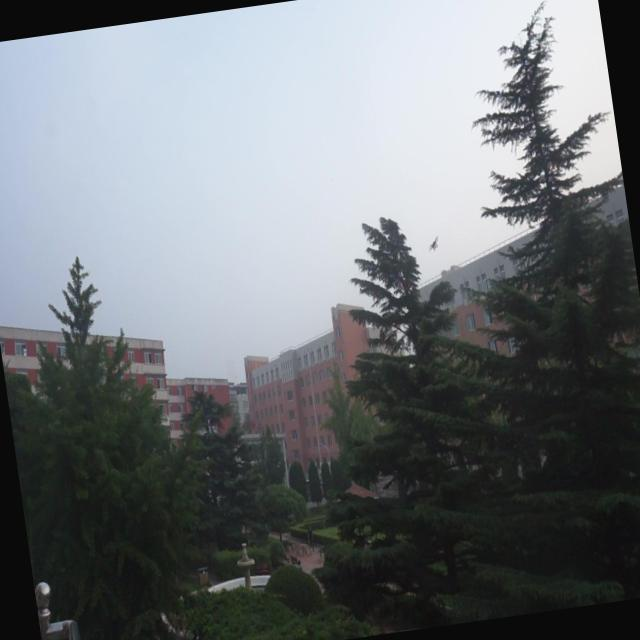drone: (423, 232, 442, 256)
